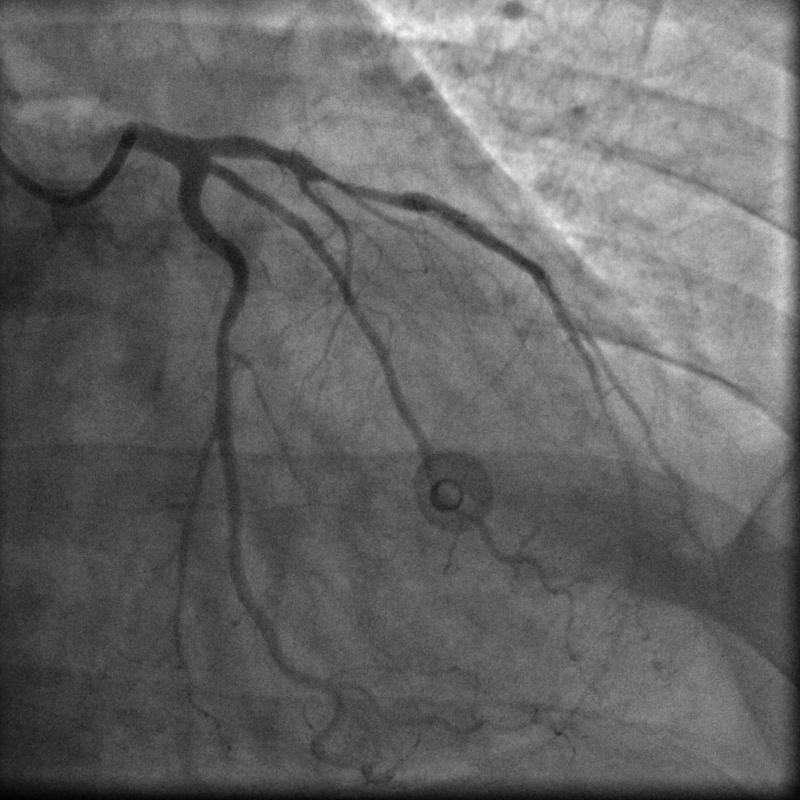Stenosis: (319, 163, 406, 211)
